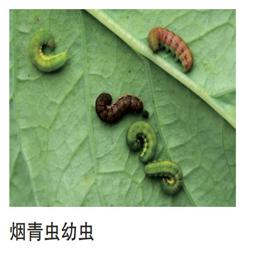Tobacco_budworm: (147, 26, 193, 73), (27, 29, 69, 74), (94, 91, 143, 126), (127, 120, 157, 163), (146, 161, 182, 195)
